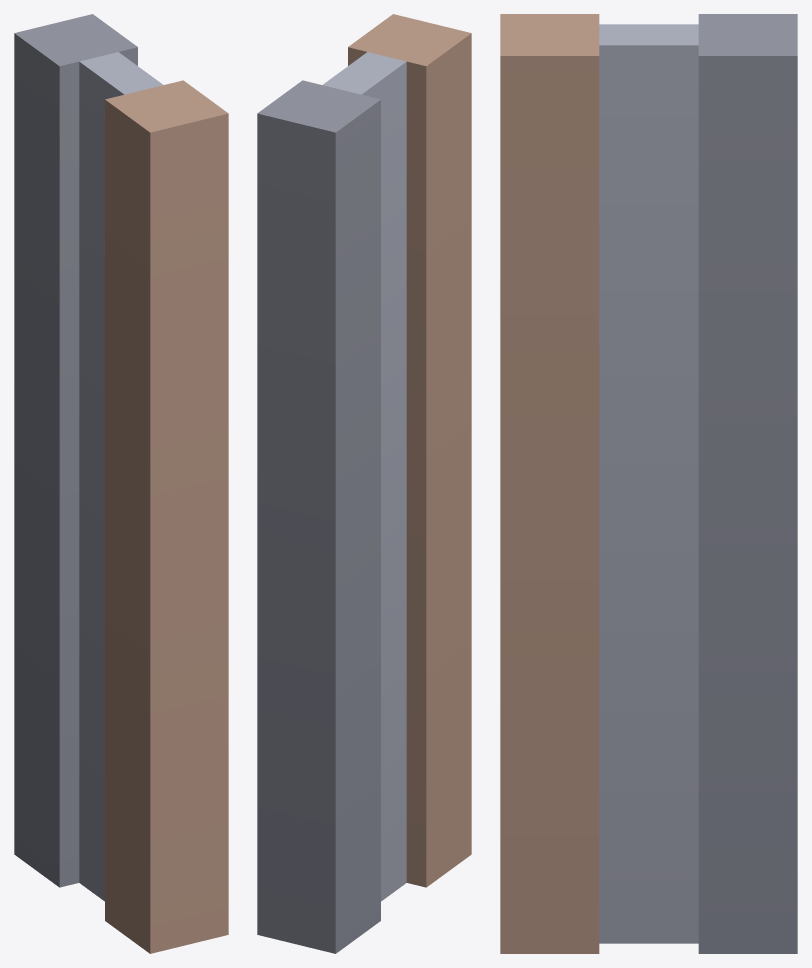
File: wall-arch.glb
3 renders of one model, left to right at view 1: azimuth 30°, elevation 25°; view 2: azimuth 150°, elevation 25°; view 3: azimuth 270°, elevation 25°, orthographic. The views are drawn at different scales.
Parts seen in each view (by area): view 1: wall-arch; view 2: wall-arch; view 3: wall-arch.
Boxes of the visible parts, bbox=[...] form: wall-arch: bbox=[14, 14, 228, 953]; wall-arch: bbox=[257, 14, 471, 953]; wall-arch: bbox=[500, 14, 797, 953].
Size of the model in its own units: 0.1 by 1 by 0.3.
